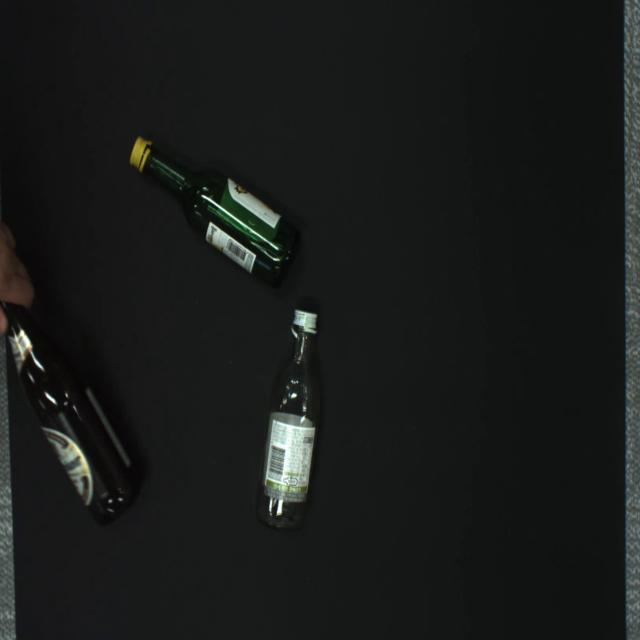beer-bottle: (0, 300, 147, 527)
soju-bottle: (129, 136, 302, 287), (255, 309, 322, 532)
